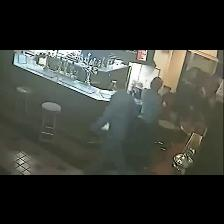person: (89, 81, 135, 174), (133, 77, 163, 170)
